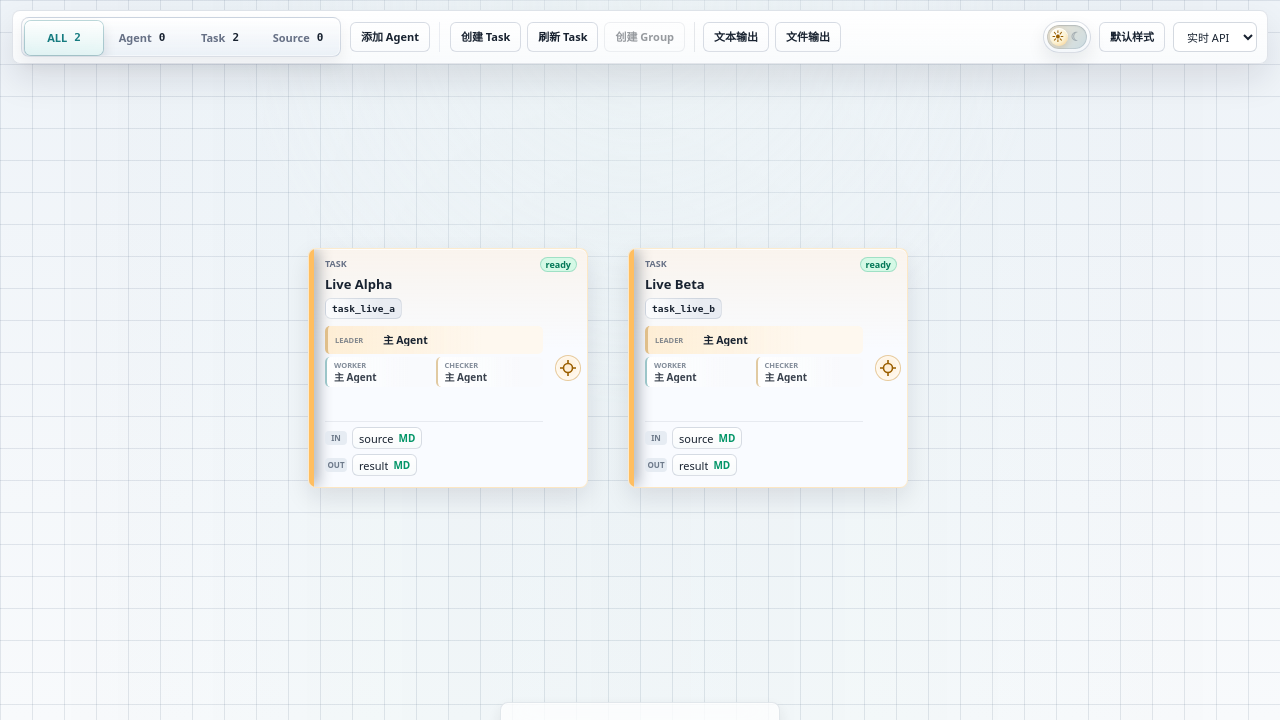
Scenario: App › live Task Groups › shows the backend validation message when Live Task Group creation fails
Check: the button "Live Alpha" is shown, box [308,248,588,488]
Check: the button "Live Beta" is shown, box [628,248,908,488]
Press the mouse on the element with class "execution-map-container" at (640,360), box [0,0,1279,719]
Wait 201 ms
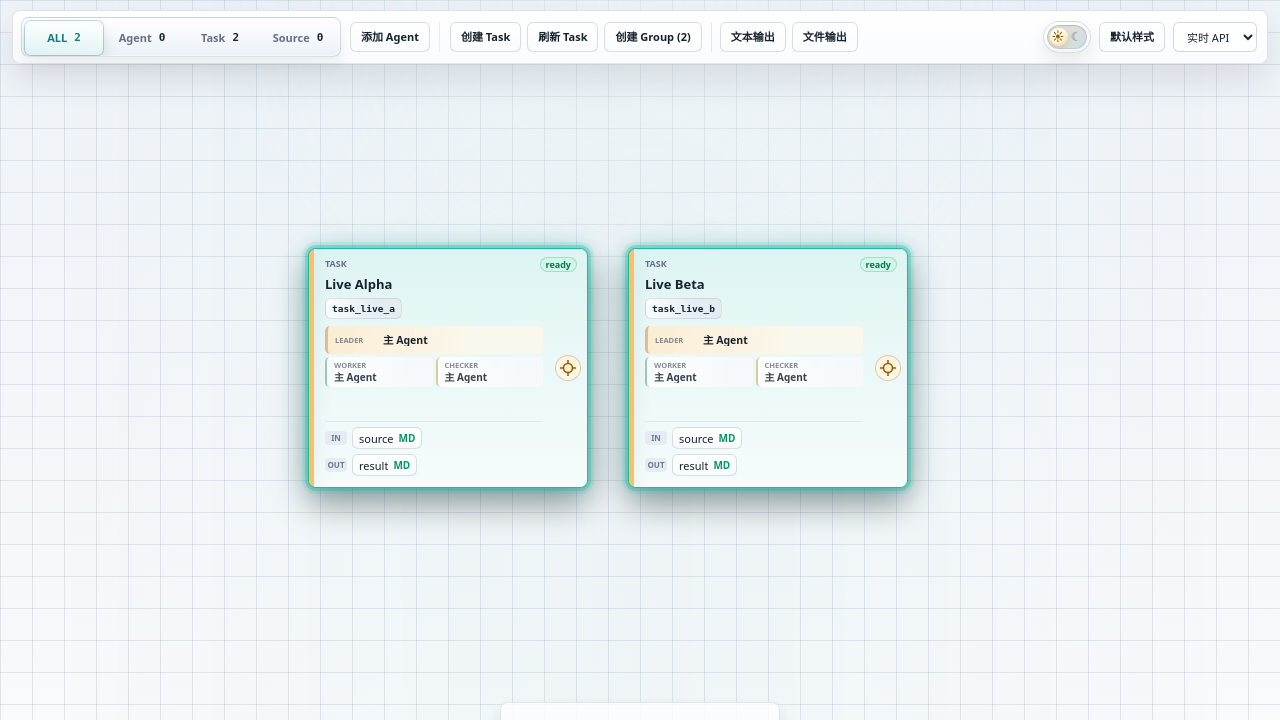
Click the button "创建 Group (2)".
click(653, 37)  # box [604,22,702,52]
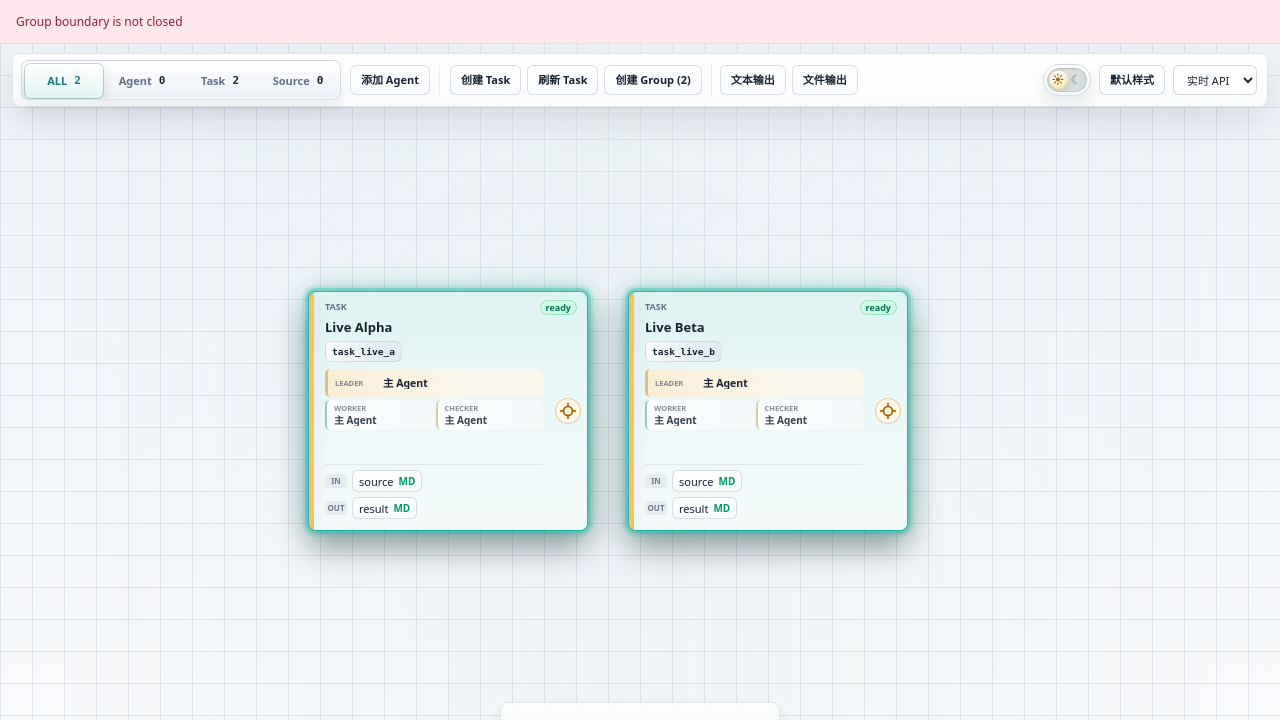
Check: the text "Group boundary is not closed" is shown, box [0,0,1279,43]
